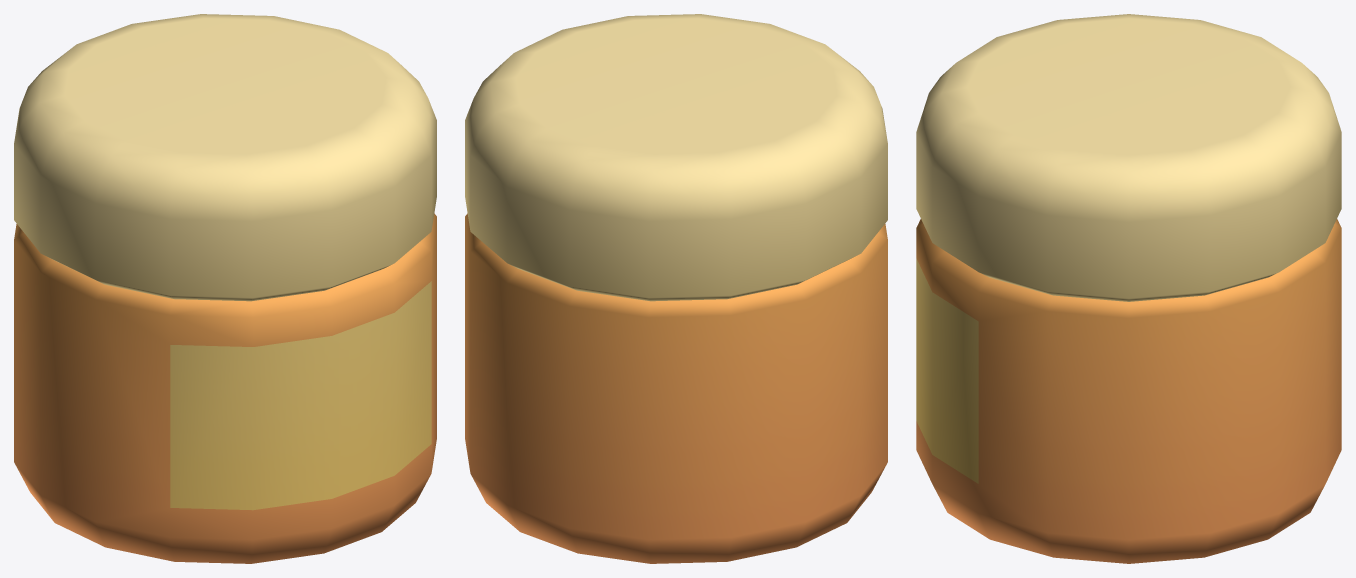
File: Cream_004.fbx
3 views of the same model, side by side, from view 1: azimuth 30°, elevation 25°; view 2: azimuth 150°, elevation 25°; view 3: azimuth 270°, elevation 25° (orthographic).
Parts seen in each view (by area): view 1: Cream_004; view 2: Cream_004; view 3: Cream_004.
Boxes of the visible parts, left/top/right/bottom form: Cream_004: left=14, top=14, right=436, bottom=563; Cream_004: left=465, top=14, right=887, bottom=563; Cream_004: left=916, top=14, right=1341, bottom=563.
Size of the model in its own units: 10.85 by 10.85 by 11.48.
